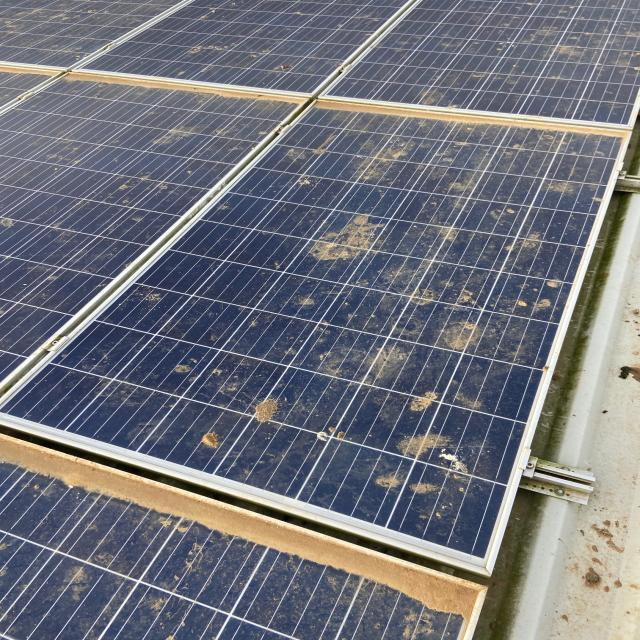Dusty: (11, 441, 484, 623), (288, 153, 484, 501), (161, 348, 279, 462)
